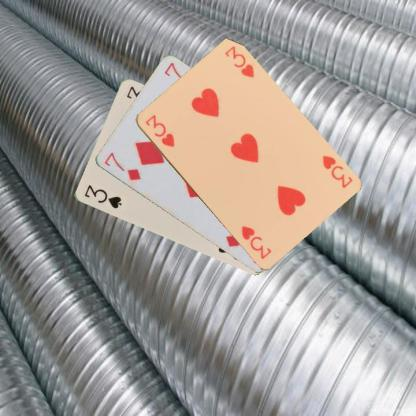3h: (319, 152, 354, 189), (142, 112, 176, 149)
3s: (82, 182, 123, 210)
7d: (101, 150, 142, 182)
